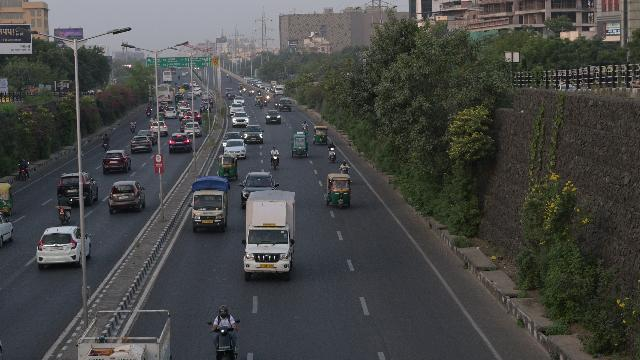With Helmet: (218, 304, 230, 318), (342, 160, 346, 166), (329, 142, 333, 146)
Without Helmet: (272, 146, 276, 150)
